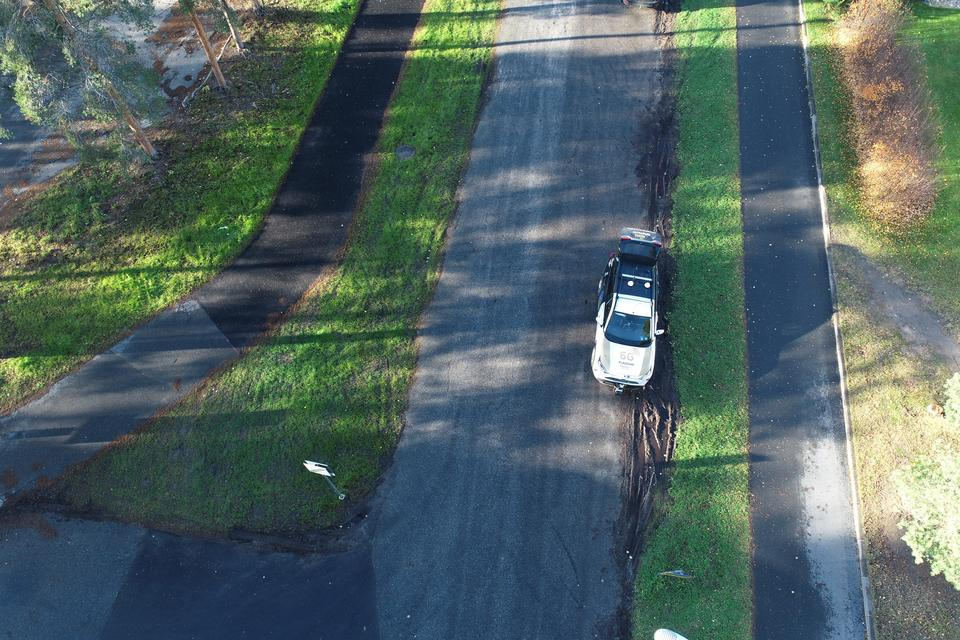intersection: (0, 332, 693, 640)
